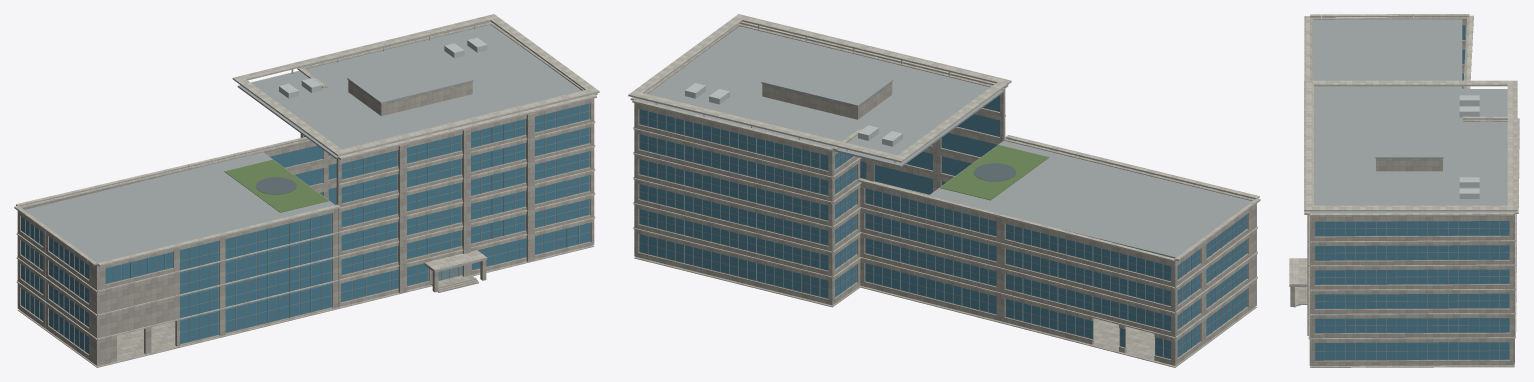
The picture shows the model from 3 angles, left to right: view 1: azimuth 30°, elevation 25°; view 2: azimuth 150°, elevation 25°; view 3: azimuth 270°, elevation 25°; orthographic projection. The views are drawn at different scales.
Parts seen in each view (by area): view 1: main__glass, unist-batch-main__stair-main, main__roof, main__trim, main__frame, main__roofplant, main__metal, main__dark; view 2: main__glass, unist-batch-main__stair-main, main__roof, main__trim, main__frame, main__roofplant, main__metal, main__dark; view 3: main__roof, main__glass, unist-batch-main__stair-main, main__trim, main__frame, main__metal.
Part boxes in pixels (x1,y1,x2,y2): main__glass: (21, 103, 590, 353); unist-batch-main__stair-main: (17, 22, 594, 367); main__roof: (25, 24, 587, 262); main__trim: (14, 14, 599, 339); main__frame: (21, 103, 590, 353); main__roofplant: (224, 159, 328, 212); main__metal: (279, 25, 573, 143); main__dark: (256, 177, 296, 194); main__glass: (639, 95, 1246, 358); unist-batch-main__stair-main: (634, 23, 1256, 367); main__roof: (639, 26, 1251, 258); main__trim: (628, 14, 1260, 338); main__frame: (639, 109, 1247, 359); main__roofplant: (940, 145, 1048, 200); main__metal: (655, 25, 950, 162); main__dark: (973, 163, 1016, 181); main__roof: (1313, 18, 1511, 213); main__glass: (1315, 25, 1509, 360); unist-batch-main__stair-main: (1290, 17, 1514, 367); main__trim: (1289, 14, 1519, 339); main__frame: (1314, 221, 1509, 360); main__metal: (1459, 95, 1479, 198).
Size of the model in its own units: 88.35 by 27.6 by 34.5.
10 materials, 3 textured.
